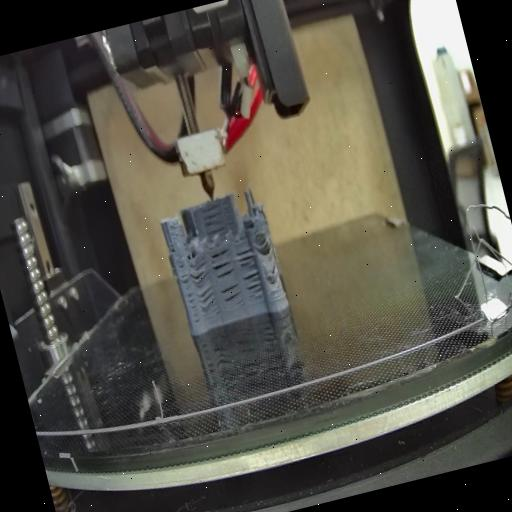cracks: (178, 264, 202, 326), (199, 200, 231, 238), (208, 246, 238, 282), (220, 282, 246, 310), (242, 270, 266, 300), (188, 259, 212, 286), (196, 286, 218, 312), (233, 244, 256, 268), (256, 236, 274, 255), (266, 258, 280, 278), (168, 240, 180, 258)
